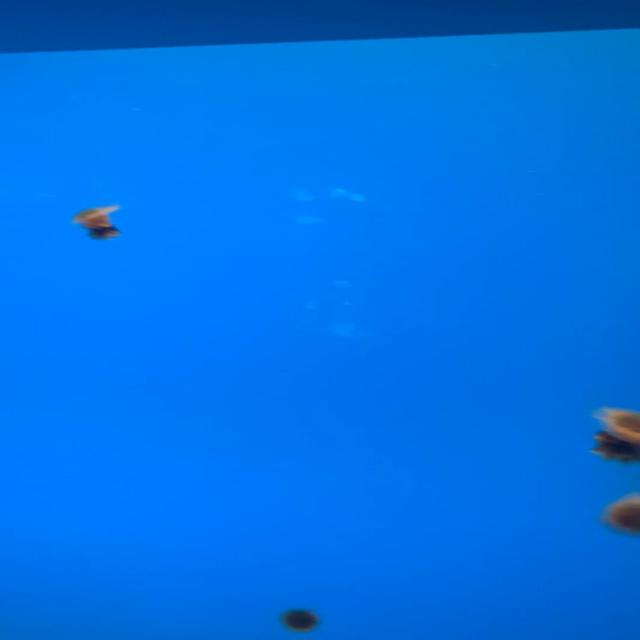jellyfish: (591, 405, 640, 457), (66, 205, 125, 240), (601, 490, 640, 536), (278, 606, 321, 634)
